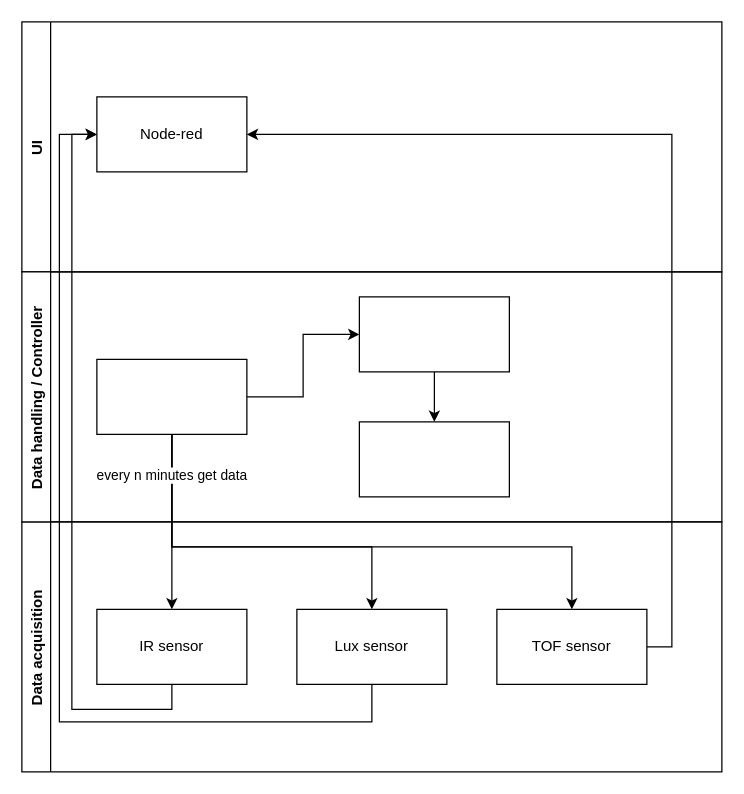
The diagram is 744 pixels wide and 794 high, and some of its shapes have lost their labels. Each missing label, with the centre of its shape:
"Camera" belongs at [433,334].
"Data aggregation" belongs at [171,396].
"Data to NFT" belongs at [433,459].
